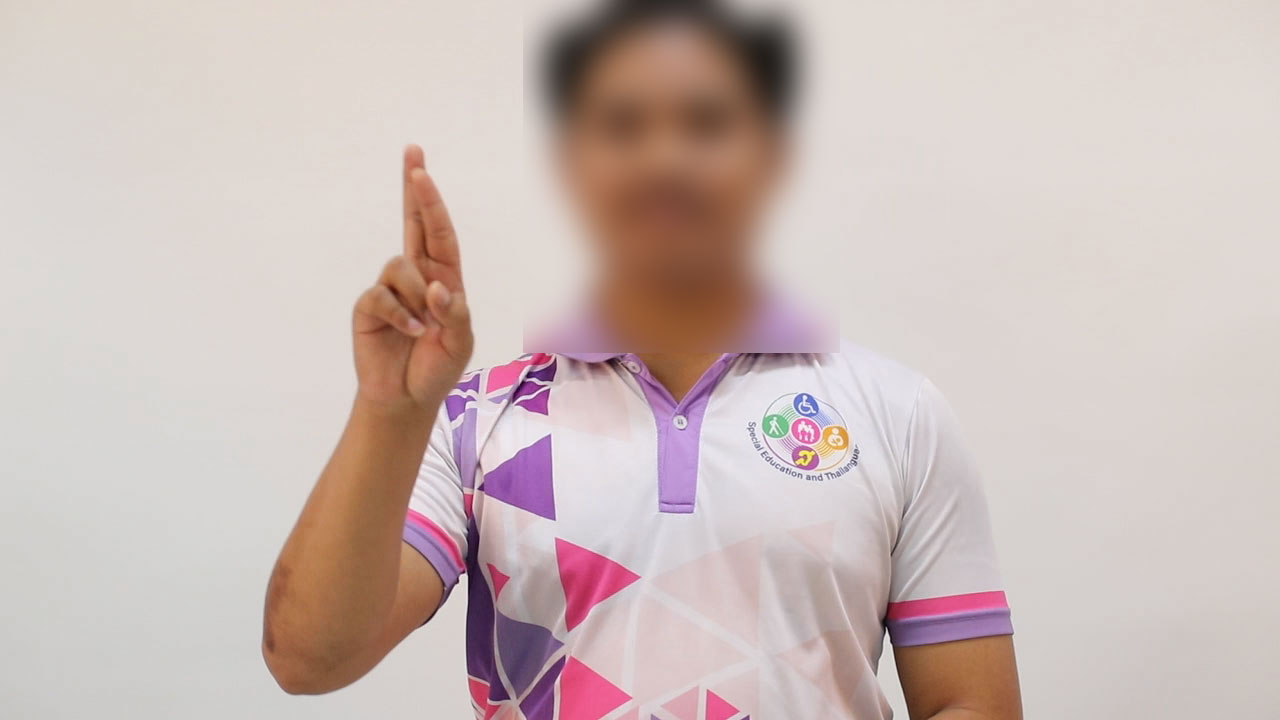rao: (326, 139, 482, 405)
